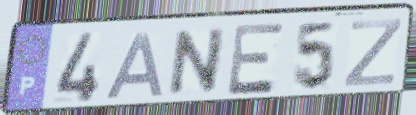4: (54, 30, 103, 105)
5: (289, 18, 339, 92)
A: (102, 30, 167, 101)
E: (225, 20, 287, 98)
N: (165, 26, 230, 98)
Z: (341, 17, 405, 89)
